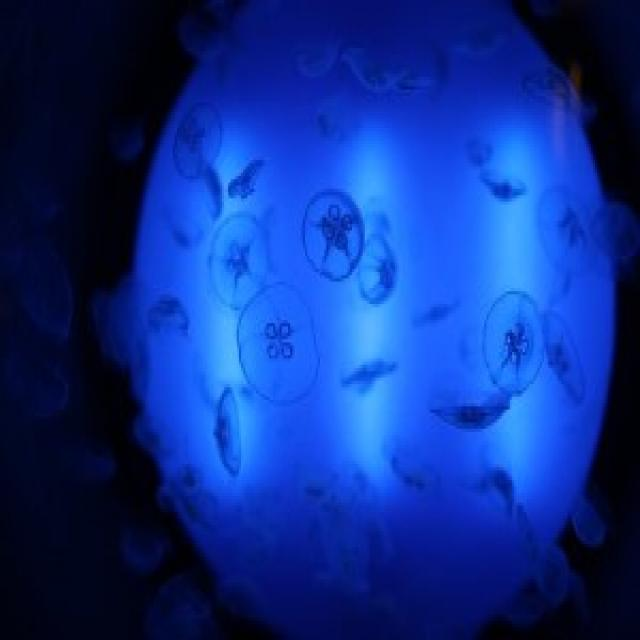Jellyfish: (100, 6, 622, 640)
